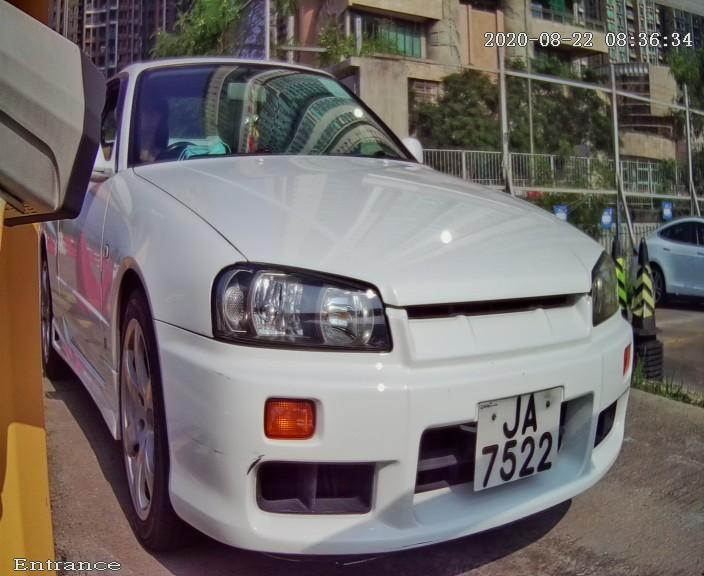Car: (7, 1, 689, 576)
License Plate: (472, 373, 573, 505)
